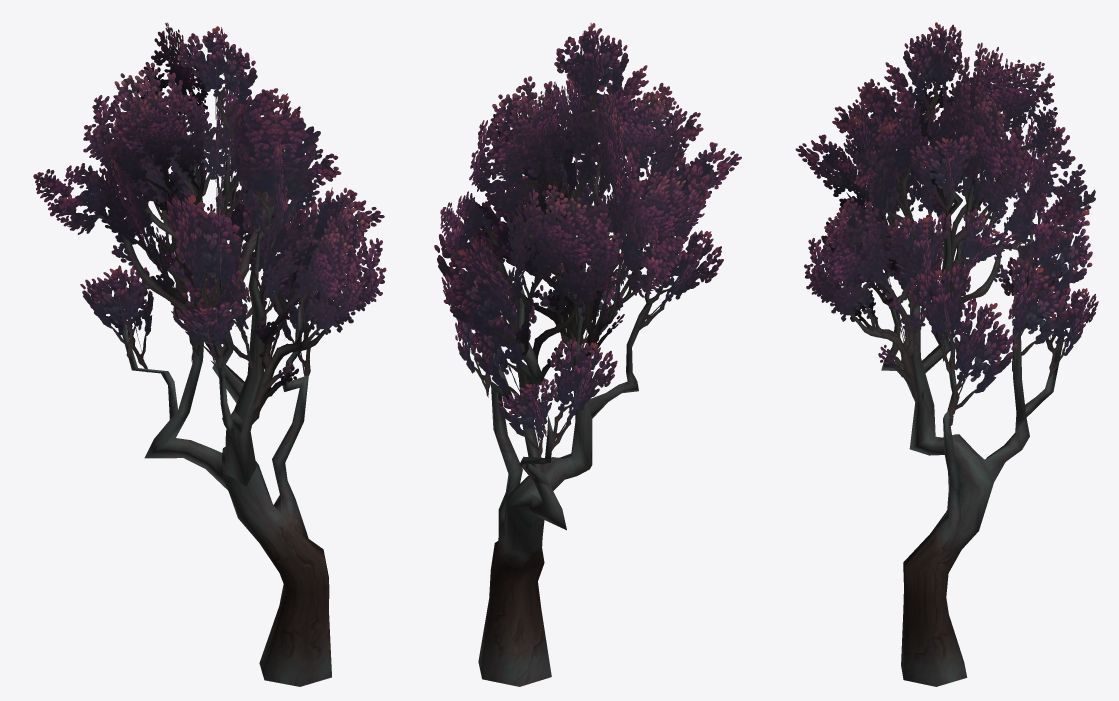
3 renders of one model, left to right at view 1: azimuth 30°, elevation 25°; view 2: azimuth 150°, elevation 25°; view 3: azimuth 270°, elevation 25°, orthographic. The views are drawn at different scales.
Bounding box in the file's own units: 11.14 × 23.04 × 10.78.
2 materials, 2 textured.
